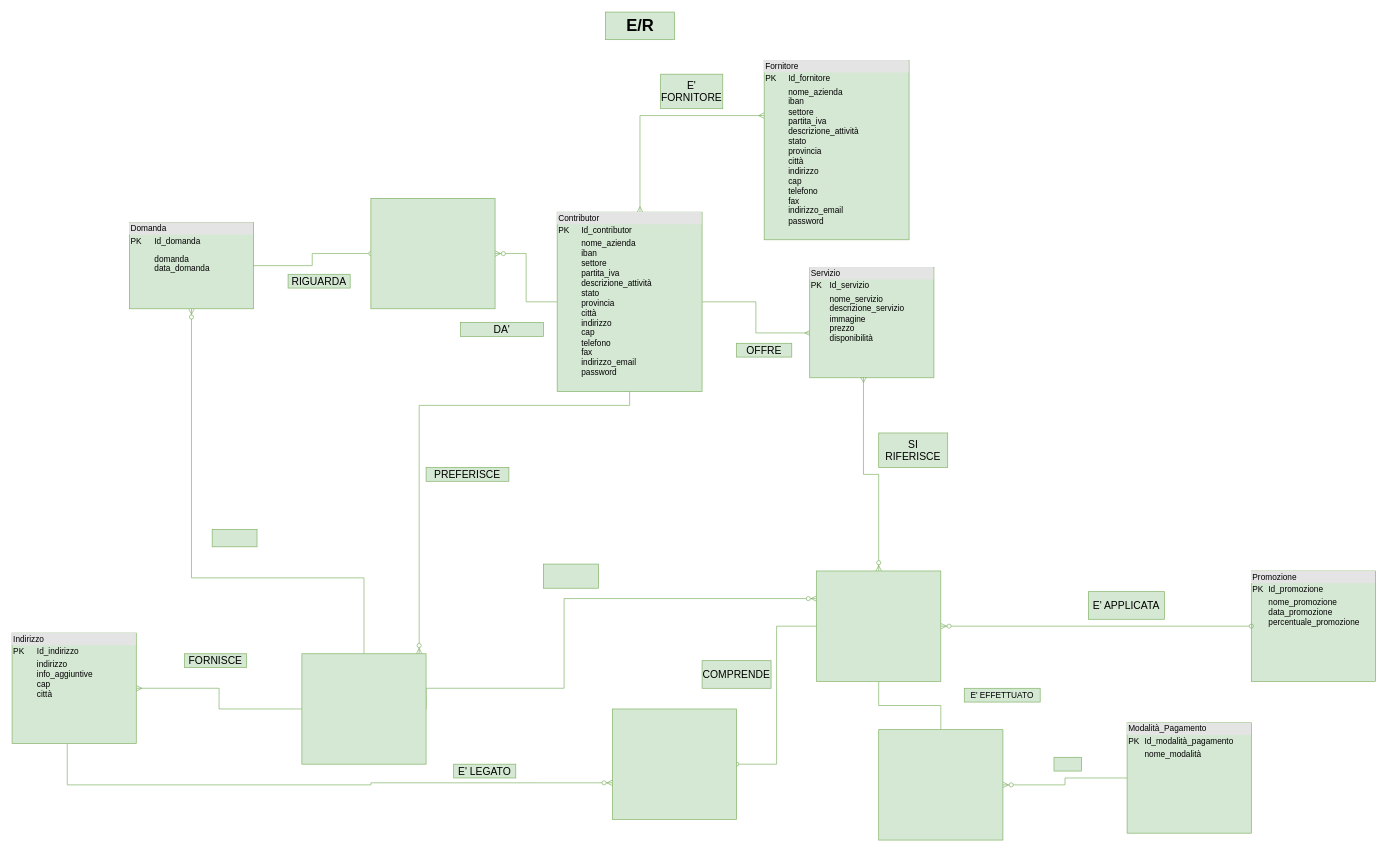
Some shapes in this 1388 by 852 pixel diagram are drawn without their labels. The shapes that lost their labels are listed below. From the top down, each one's centre as x and y in pixels, then its label:
the point at 432,253: Risposta PK Id_risposta risposta data_risposta
the point at 234,538: PONE
the point at 571,575: EFFETTUA
the point at 878,625: Ordine PK Id_ordine quantità data
the point at 363,708: Guest PK Id_guest nome cognome immagine data_nascita indrizzo_email password
the point at 674,763: Spedizione PK Id_spedizione data
the point at 1067,764: HA
the point at 940,784: Pagamento PK Id_pagamento data_pagamento importo
